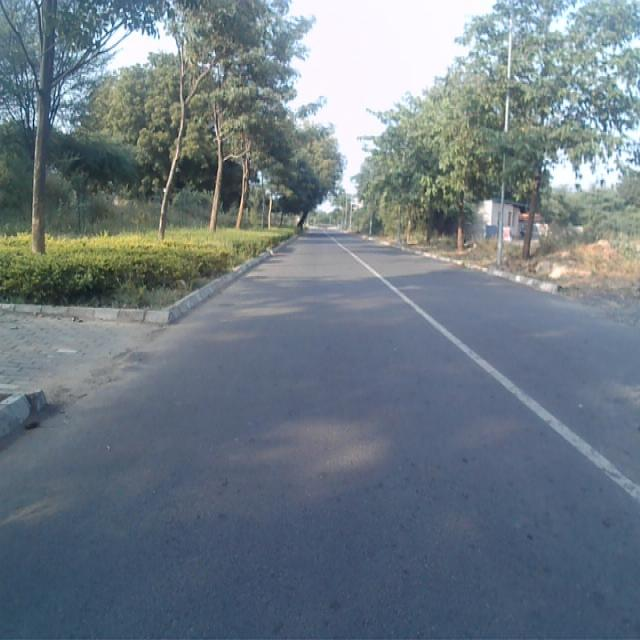lane: (0, 236, 640, 640)
